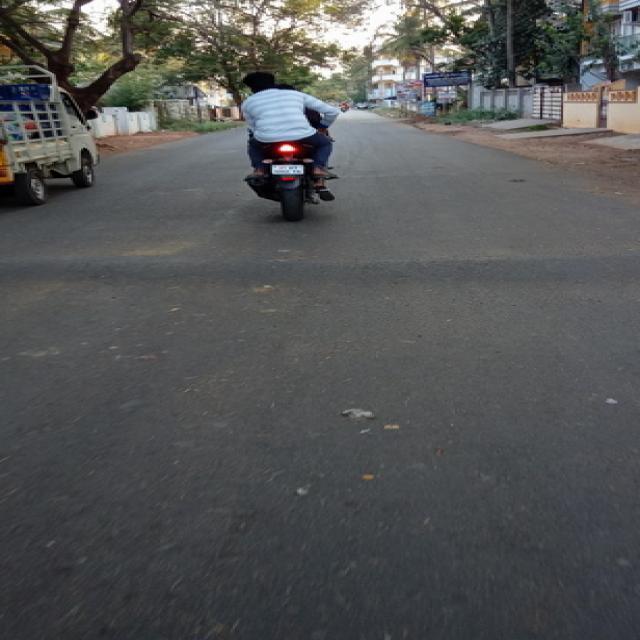NonMarked Bump: (26, 240, 640, 296)
